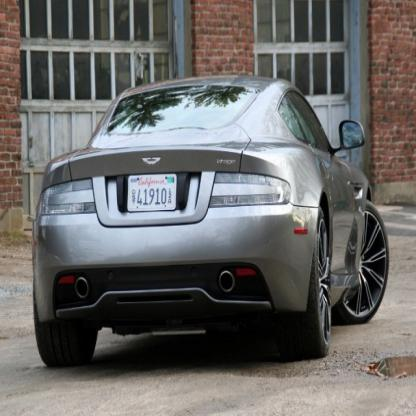Vehicle: (31, 80, 399, 371)
